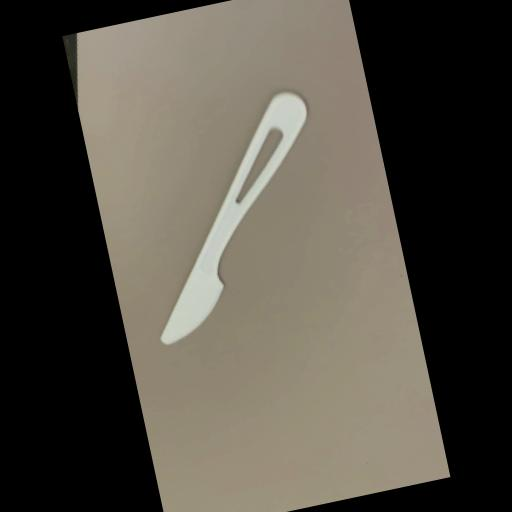utensil: (111, 83, 352, 353)
